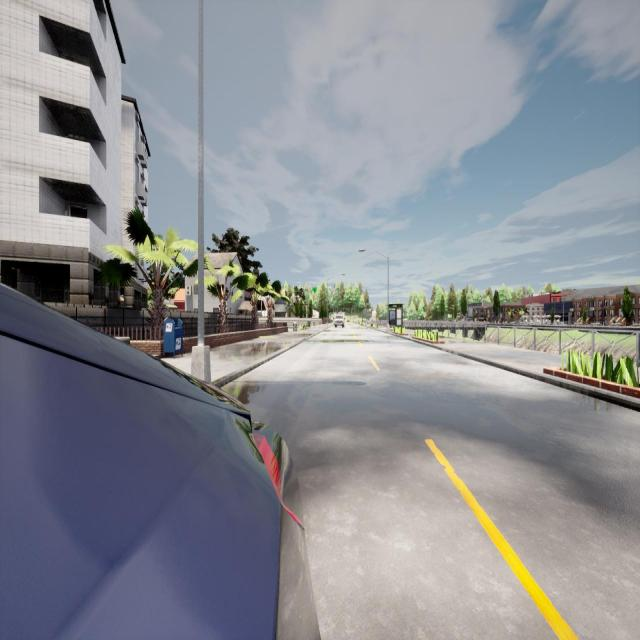Vehicle: (0, 285, 319, 638), (334, 312, 345, 329)
